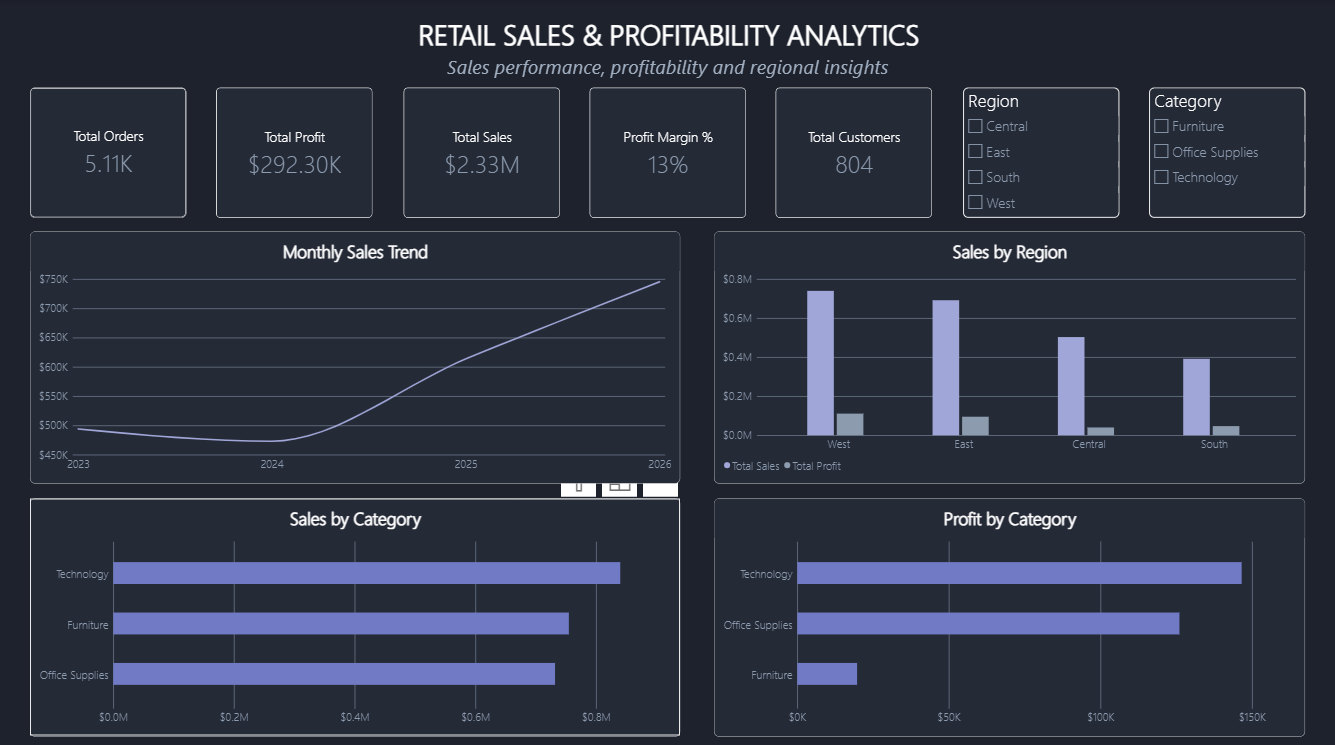

The page's visual inventory and layout, read from the dashboard file:
{"tool":"powerbi","page":{"name":"Retail analysis","canvas":[2560,1440],"ordinal":0},"visuals":[{"type":"cardVisual","title":"Total Sales","fields":{"Data":["retail_sales_analytics superstore_clean.Total Sales"]},"box":[772.3,170,300,250],"z":0},{"type":"cardVisual","title":"Total Profit","fields":{"Data":["retail_sales_analytics superstore_clean.Total Profit"]},"box":[414.7,170,300,250],"z":1000},{"type":"cardVisual","title":"Total Orders","fields":{"Data":["retail_sales_analytics superstore_clean.Total Orders"]},"box":[57,170,300,250],"z":2000},{"type":"cardVisual","title":"Total Customers","fields":{"Data":["retail_sales_analytics superstore_clean.Total Customers"]},"box":[1487.7,170,300,250],"z":3000},{"type":"cardVisual","title":"Profit Margin","fields":{"Data":["retail_sales_analytics superstore_clean.Profit Margin %"]},"box":[1130,170,300,250],"z":4000},{"type":"clusteredBarChart","title":"Sales by Category","fields":{"Category":["retail_sales_analytics superstore_clean.Category"],"Y":["retail_sales_analytics superstore_clean.Total Sales"]},"box":[56.7,956.7,1246.7,456.7],"z":5000},{"type":"clusteredColumnChart","title":"Sales by Region","fields":{"Category":["retail_sales_analytics superstore_clean.Region"],"Y":["retail_sales_analytics superstore_clean.Total Sales","retail_sales_analytics superstore_clean.Total Profit"]},"box":[1370,446.7,1133.3,483.3],"z":6000},{"type":"lineChart","title":"Monthly Sales Trend","fields":{"Category":["retail_sales_analytics superstore_clean.Order Date.Variation.Date Hierarchy.Year","retail_sales_analytics superstore_clean.Order Date.Variation.Date Hierarchy.Month"],"Y":["retail_sales_analytics superstore_clean.Total Sales"]},"box":[56.7,446.7,1246.7,483.3],"z":7000},{"type":"clusteredBarChart","title":"Profit by Category","fields":{"Category":["retail_sales_analytics superstore_clean.Category"],"Y":["retail_sales_analytics superstore_clean.Total Profit"]},"box":[1370,956.7,1133.3,456.7],"z":8000},{"type":"slicer","fields":{"Values":["retail_sales_analytics superstore_clean.Region"]},"box":[1845.3,170,300,250],"z":9000},{"type":"slicer","fields":{"Values":["retail_sales_analytics superstore_clean.Category"]},"box":[2203,170,300,250],"z":10000},{"type":"textbox","box":[695,32.5,1173.3,76.7],"z":12000},{"type":"textbox","box":[767.5,102.5,1025,67.5],"z":13000}]}

Visuals, with their boxes in screenshot pixels (x1, y1, x2, y2), scaled from the page's 2560x1440 canvas onto the 1335x745 screenshot:
"Total Sales" cardVisual: {"left": 403, "top": 88, "right": 559, "bottom": 217}
"Total Profit" cardVisual: {"left": 216, "top": 88, "right": 373, "bottom": 217}
"Total Orders" cardVisual: {"left": 30, "top": 88, "right": 186, "bottom": 217}
"Total Customers" cardVisual: {"left": 776, "top": 88, "right": 932, "bottom": 217}
"Profit Margin" cardVisual: {"left": 589, "top": 88, "right": 746, "bottom": 217}
"Sales by Category" clusteredBarChart: {"left": 30, "top": 495, "right": 680, "bottom": 731}
"Sales by Region" clusteredColumnChart: {"left": 714, "top": 231, "right": 1305, "bottom": 481}
"Monthly Sales Trend" lineChart: {"left": 30, "top": 231, "right": 680, "bottom": 481}
"Profit by Category" clusteredBarChart: {"left": 714, "top": 495, "right": 1305, "bottom": 731}
slicer - retail_sales_analytics superstore_clean.Region: {"left": 962, "top": 88, "right": 1119, "bottom": 217}
slicer - retail_sales_analytics superstore_clean.Category: {"left": 1149, "top": 88, "right": 1305, "bottom": 217}
textbox: {"left": 362, "top": 17, "right": 974, "bottom": 56}
textbox: {"left": 400, "top": 53, "right": 935, "bottom": 88}
